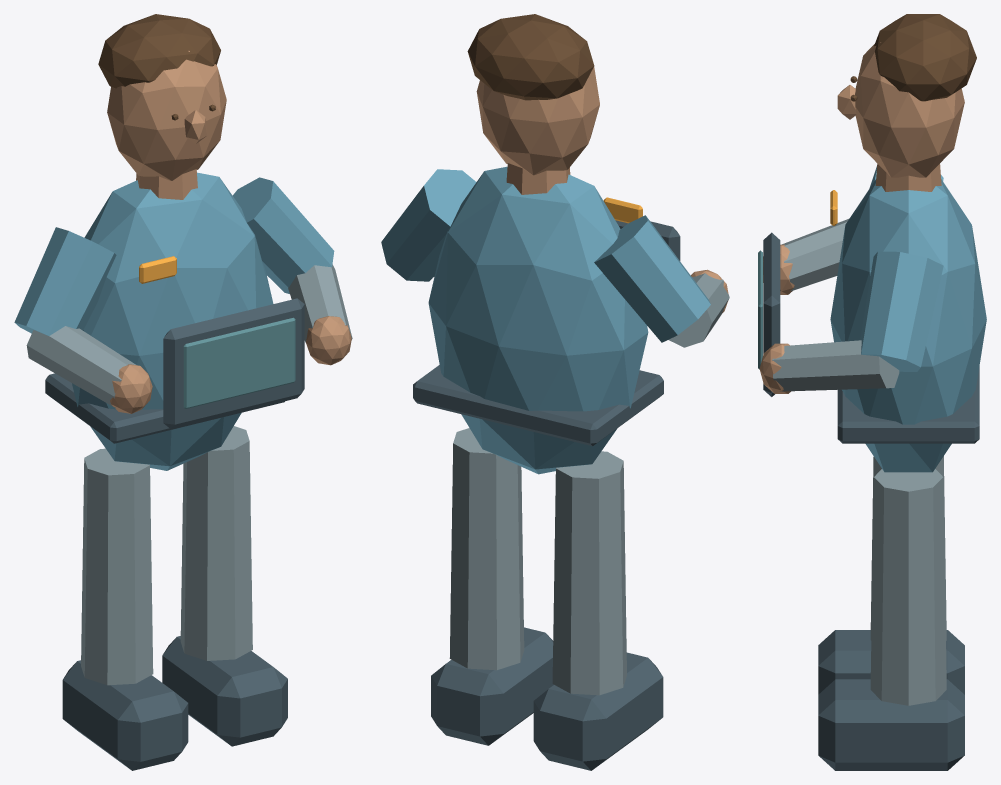
3 renders of one model, left to right at view 1: azimuth 30°, elevation 25°; view 2: azimuth 150°, elevation 25°; view 3: azimuth 270°, elevation 25°, orthographic. The views are drawn at different scales.
Parts seen in each view (by area): view 1: MI-007 Habitat maintenance technician batched; view 2: MI-007 Habitat maintenance technician batched; view 3: MI-007 Habitat maintenance technician batched.
Boxes of the visible parts, x1,y1,x2,y2 form: MI-007 Habitat maintenance technician batched: (14,14,352,770); MI-007 Habitat maintenance technician batched: (381,14,729,770); MI-007 Habitat maintenance technician batched: (758,14,986,770).
Size of the model in its own units: 0.7434 by 1.62 by 0.468.
